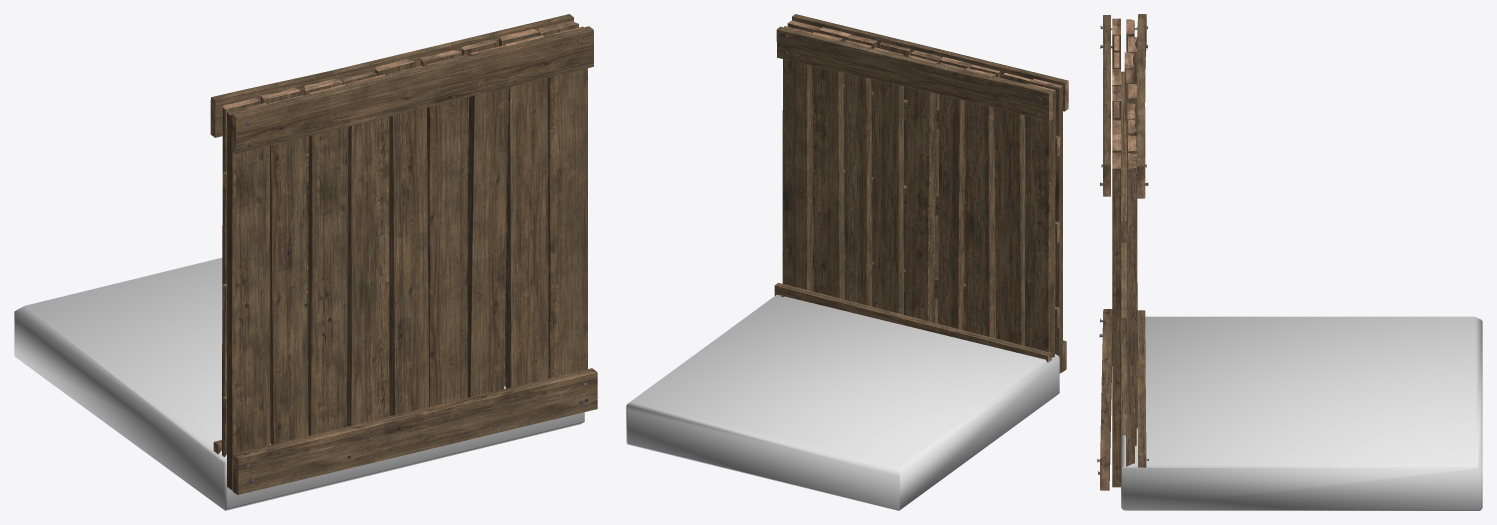
File: SM_Wall_3x3_C.fbx
The picture shows the model from 3 angles, left to right: view 1: azimuth 30°, elevation 25°; view 2: azimuth 150°, elevation 25°; view 3: azimuth 270°, elevation 25°; orthographic projection. The views are drawn at different scales.
Parts seen in each view (by area): view 1: SM_Wall_3x3_C, SM_Wall_3x3_C_ConvexHulls; view 2: SM_Wall_3x3_C, SM_Wall_3x3_C_ConvexHulls; view 3: SM_Wall_3x3_C_ConvexHulls, SM_Wall_3x3_C.
Boxes of the visible parts, <box> form: SM_Wall_3x3_C: <box>210,14,597,494</box>; SM_Wall_3x3_C_ConvexHulls: <box>14,257,584,510</box>; SM_Wall_3x3_C: <box>774,14,1068,373</box>; SM_Wall_3x3_C_ConvexHulls: <box>626,294,1059,510</box>; SM_Wall_3x3_C_ConvexHulls: <box>1121,316,1482,510</box>; SM_Wall_3x3_C: <box>1097,14,1148,490</box>.
Bounding box in the file's own units: 3.02 × 3.25 × 3.27.
